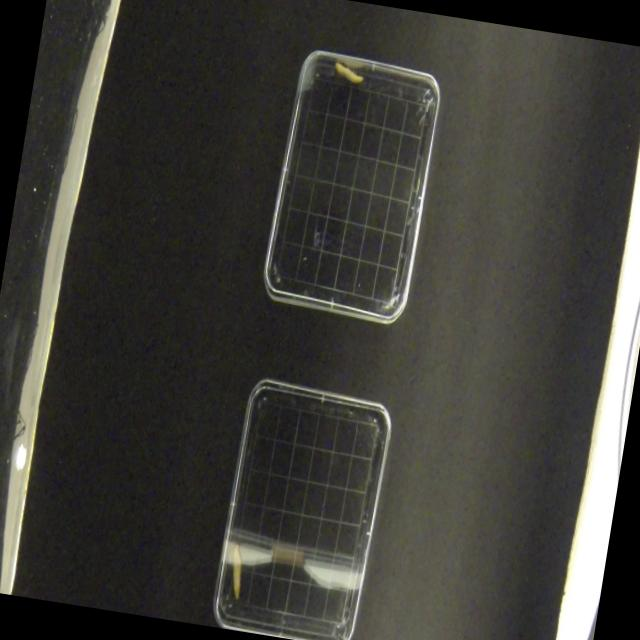larva: (223, 541, 250, 604), (330, 59, 368, 92)
